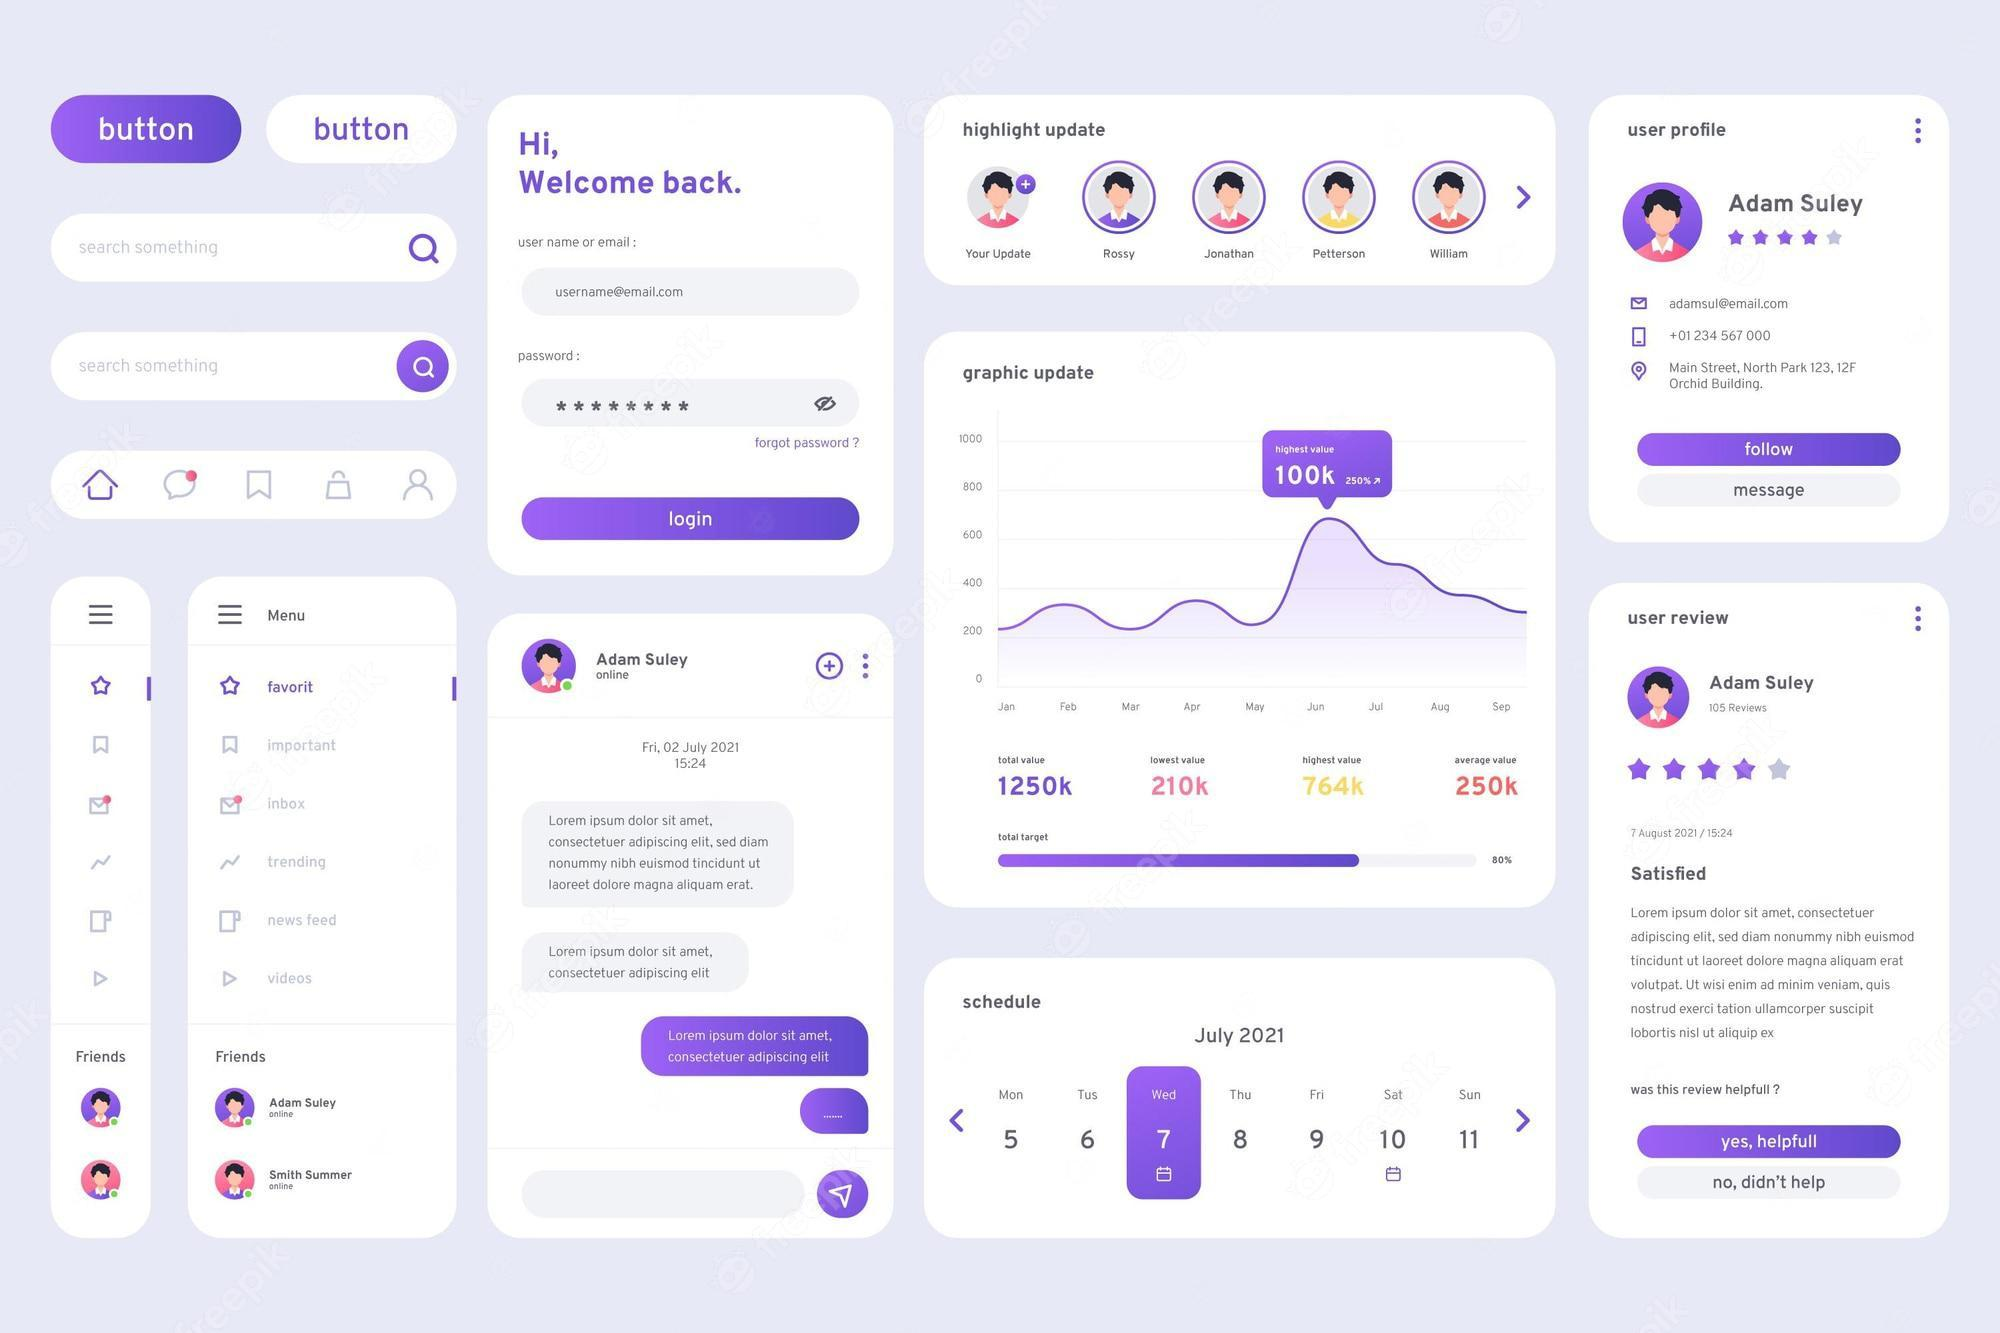button: (517, 495, 862, 547), (46, 92, 244, 165), (266, 92, 457, 167), (189, 666, 458, 713), (1126, 1064, 1201, 1202), (1636, 472, 1905, 510), (1639, 431, 1903, 469), (1640, 1126, 1900, 1162), (1640, 1168, 1900, 1204), (54, 662, 155, 716)
icon: (1615, 179, 1706, 269), (1188, 158, 1268, 238), (1405, 162, 1488, 235), (1081, 159, 1157, 238), (1300, 162, 1375, 237), (961, 164, 1038, 234), (1627, 666, 1695, 730), (520, 632, 575, 701), (815, 1166, 873, 1224), (77, 1154, 126, 1212), (74, 786, 123, 833), (204, 963, 259, 1004), (77, 899, 126, 945), (204, 902, 253, 948), (210, 1085, 259, 1129), (216, 1151, 254, 1208), (77, 725, 128, 768), (79, 961, 126, 1006), (74, 595, 126, 635), (238, 463, 284, 507), (158, 464, 207, 504), (79, 466, 123, 507), (80, 1089, 126, 1129), (210, 788, 256, 829), (401, 464, 439, 510), (321, 464, 358, 509), (208, 847, 253, 884), (211, 598, 251, 638), (77, 847, 120, 881), (854, 643, 883, 692), (938, 1105, 978, 1140), (214, 725, 245, 765), (1509, 1102, 1542, 1138), (815, 649, 848, 683), (1906, 600, 1932, 640), (1905, 115, 1933, 149), (1511, 186, 1538, 216)
input: (46, 205, 455, 286), (51, 332, 458, 402), (514, 370, 857, 433), (523, 263, 862, 320), (525, 1171, 807, 1224)
label: (1722, 186, 1874, 223), (265, 1154, 364, 1201), (1193, 1021, 1303, 1058), (1709, 672, 1820, 699), (265, 1091, 346, 1126), (516, 234, 642, 256), (250, 733, 348, 762), (265, 841, 329, 884), (592, 649, 700, 674), (958, 989, 1059, 1016), (259, 961, 326, 1001), (266, 912, 346, 937), (216, 1041, 274, 1074), (74, 1041, 140, 1070), (516, 347, 589, 367), (265, 788, 312, 820), (1309, 244, 1371, 265), (268, 604, 312, 629), (1201, 247, 1259, 266), (967, 247, 1033, 260), (1099, 247, 1143, 265), (1429, 247, 1474, 263)
slider: (998, 849, 1481, 873)
